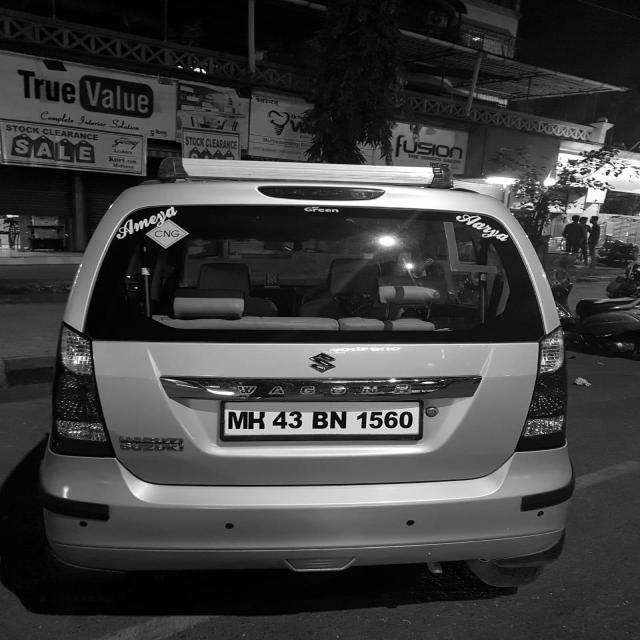car: (35, 162, 578, 592)
license-plate: (220, 398, 422, 444)
